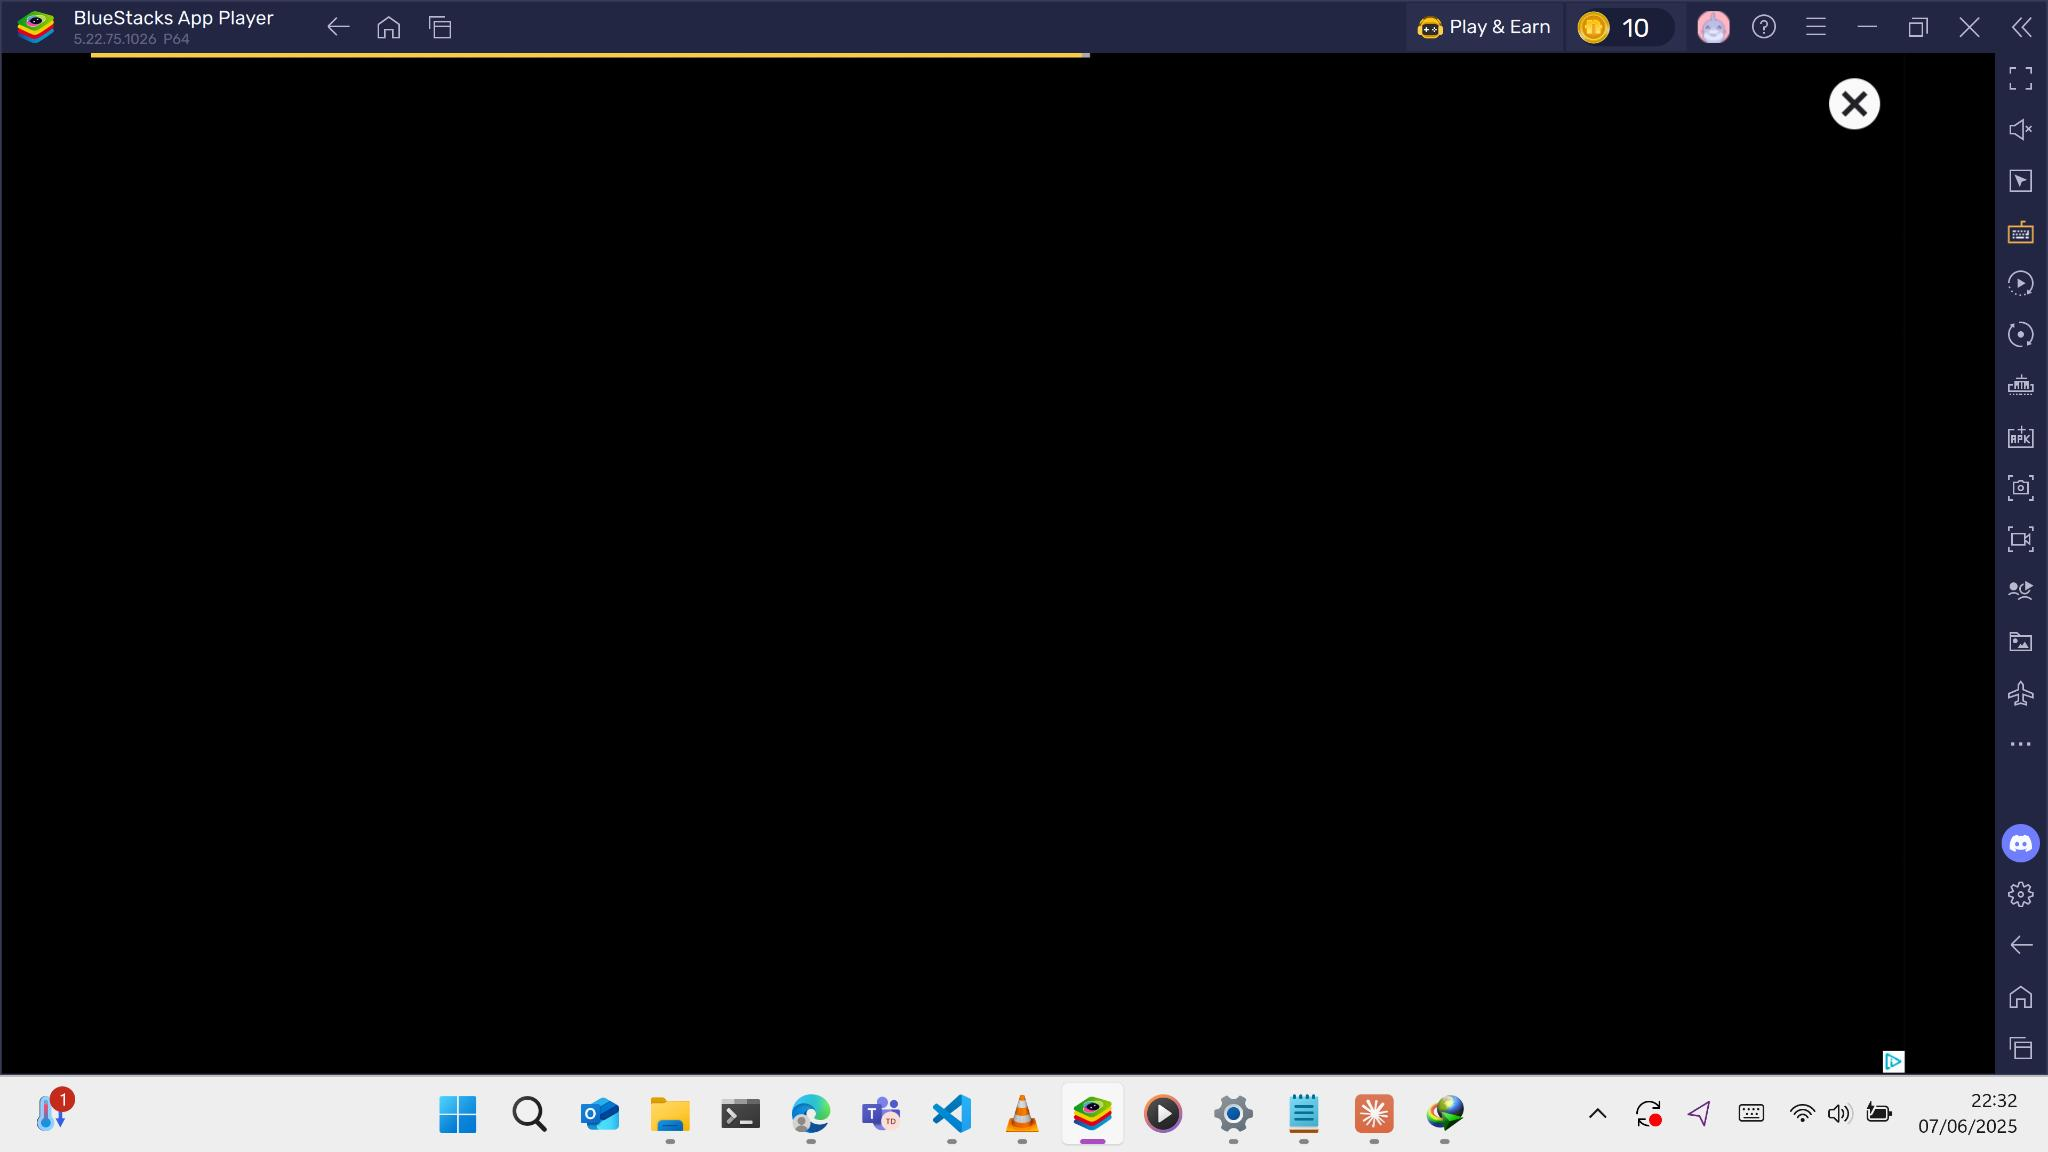close_ad: (1829, 76, 1881, 129)
windows_button: (439, 1096, 477, 1134)
